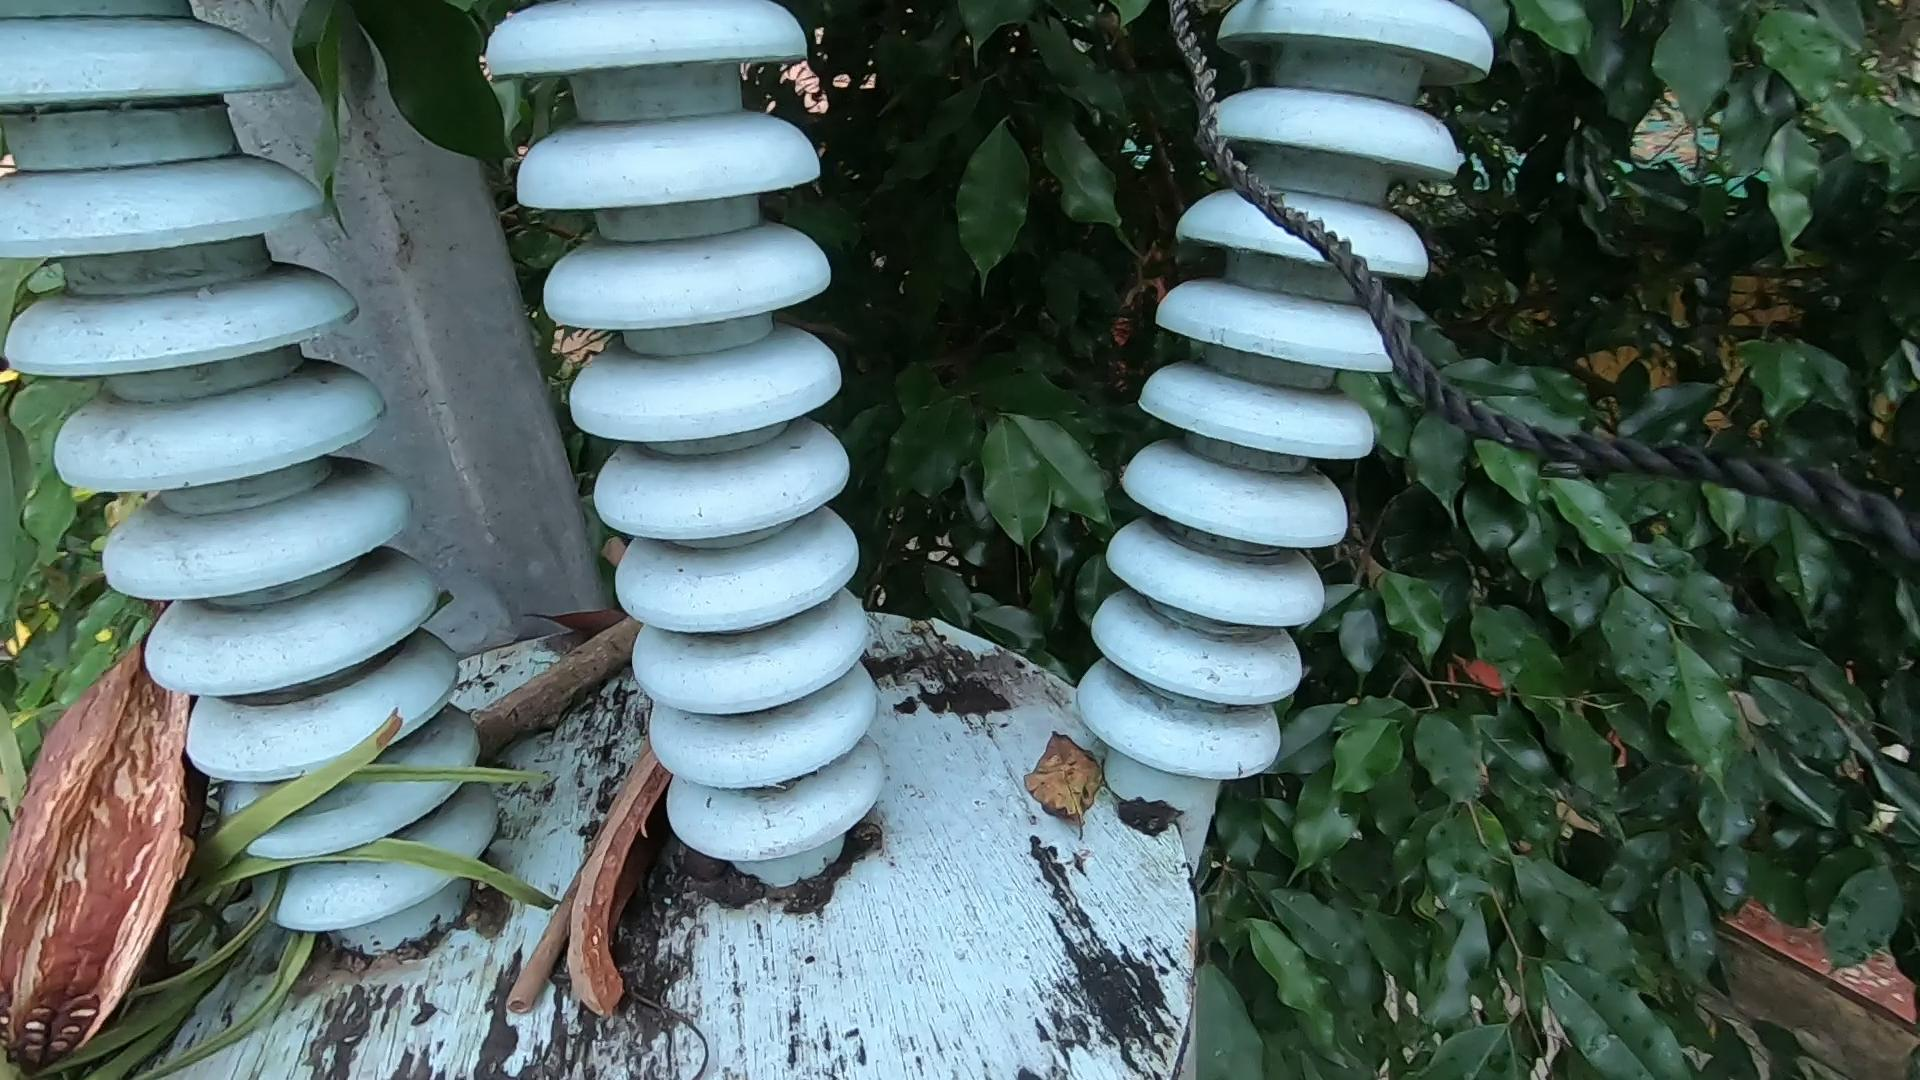branch with leaves: (22, 498, 624, 1080)
leaf: (1021, 678, 1160, 866)
mahogany fruit: (45, 640, 174, 1029), (601, 742, 758, 1055)
tree branch: (481, 731, 837, 1042)
